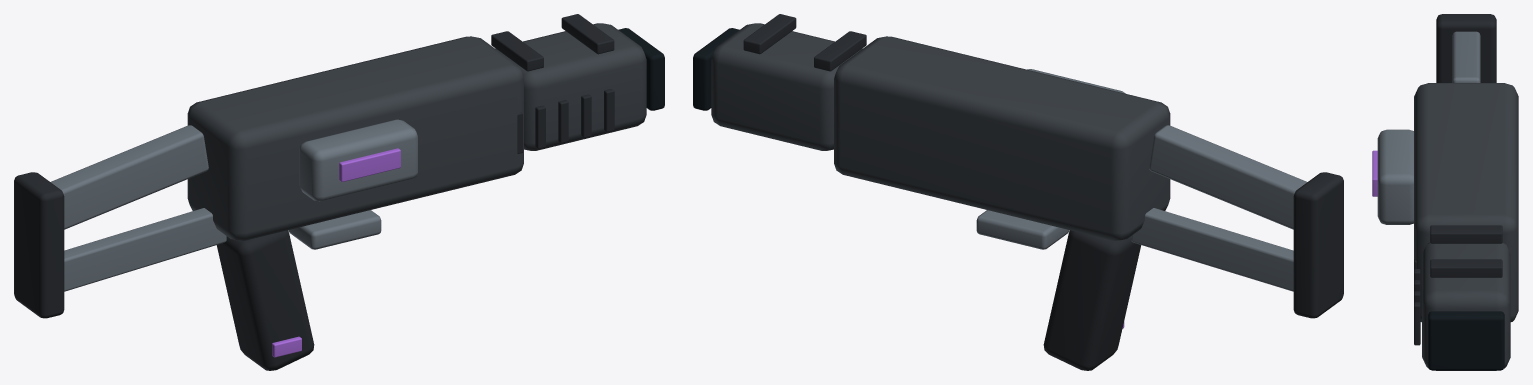
3 renders of one model, left to right at view 1: azimuth 30°, elevation 25°; view 2: azimuth 150°, elevation 25°; view 3: azimuth 270°, elevation 25°, orthographic.
Parts seen in each view (by area): view 1: T01__Modular_body, T01__Forward_housing, T01__Grip, T01__Rear_upper, T01__Rear_pad, T01__Rear_lower, T01__Diagnostic_module, T01__Lower_guard, T01, T01__Sealed_end, T01__Diagnostic_marker, T01__Forebody_segment.002 (+1 smaller); view 2: T01__Modular_body, T01__Forward_housing, T01__Grip, T01__Rear_upper, T01__Rear_pad, T01__Rear_lower, T01__Lower_guard, T01__Sealed_end, T01__Forebody_segment.002, T01__Forebody_segment.001; view 3: T01__Modular_body, T01__Forward_housing, T01__Sealed_end, T01__Diagnostic_module, T01__Rear_pad, T01__Rear_upper, T01__Forebody_segment.001, T01__Forebody_segment.002, T01, T01__Diagnostic_marker.
Boxes of the visible parts, left/top/right/bottom form: T01__Modular_body: left=187, top=36, right=523, bottom=240; T01__Forward_housing: left=495, top=23, right=646, bottom=150; T01__Grip: left=216, top=230, right=314, bottom=370; T01__Rear_upper: left=50, top=125, right=208, bottom=229; T01__Rear_pad: left=14, top=172, right=64, bottom=318; T01__Rear_lower: left=64, top=208, right=226, bottom=291; T01__Diagnostic_module: left=299, top=119, right=417, bottom=201; T01__Lower_guard: left=288, top=210, right=381, bottom=249; T01: left=517, top=89, right=614, bottom=153; T01__Sealed_end: left=618, top=28, right=664, bottom=110; T01__Diagnostic_marker: left=339, top=148, right=400, bottom=181; T01__Forebody_segment.002: left=561, top=14, right=614, bottom=54; T01__Modular_body: left=834, top=36, right=1170, bottom=240; T01__Forward_housing: left=711, top=23, right=862, bottom=150; T01__Grip: left=1043, top=230, right=1141, bottom=370; T01__Rear_upper: left=1149, top=125, right=1307, bottom=229; T01__Rear_pad: left=1293, top=172, right=1343, bottom=318; T01__Rear_lower: left=1131, top=208, right=1293, bottom=291; T01__Lower_guard: left=976, top=210, right=1069, bottom=249; T01__Sealed_end: left=693, top=28, right=739, bottom=110; T01__Forebody_segment.002: left=743, top=14, right=796, bottom=54; T01__Forebody_segment.001: left=814, top=31, right=866, bottom=71; T01__Modular_body: left=1414, top=83, right=1518, bottom=322; T01__Forward_housing: left=1422, top=242, right=1510, bottom=370; T01__Sealed_end: left=1428, top=311, right=1504, bottom=370; T01__Diagnostic_module: left=1377, top=129, right=1413, bottom=224; T01__Rear_pad: left=1436, top=14, right=1496, bottom=82; T01__Rear_upper: left=1452, top=31, right=1480, bottom=82; T01__Forebody_segment.001: left=1430, top=225, right=1502, bottom=243; T01__Forebody_segment.002: left=1430, top=259, right=1502, bottom=277; T01: left=1414, top=259, right=1420, bottom=345; T01__Diagnostic_marker: left=1372, top=150, right=1377, bottom=196.
Bounding box in the file's own units: 0.8815 × 0.3478 × 0.182.
